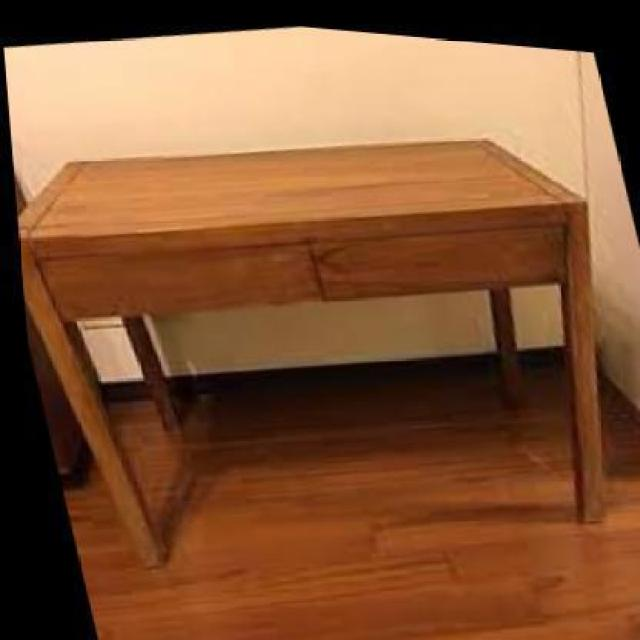tables: (15, 136, 608, 570)
